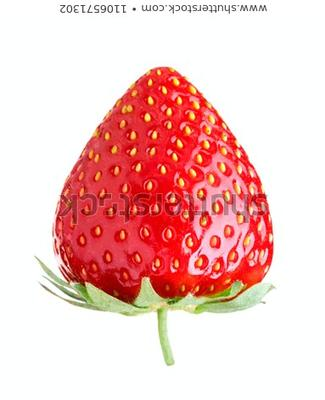strawberry: (0, 0, 325, 400)
